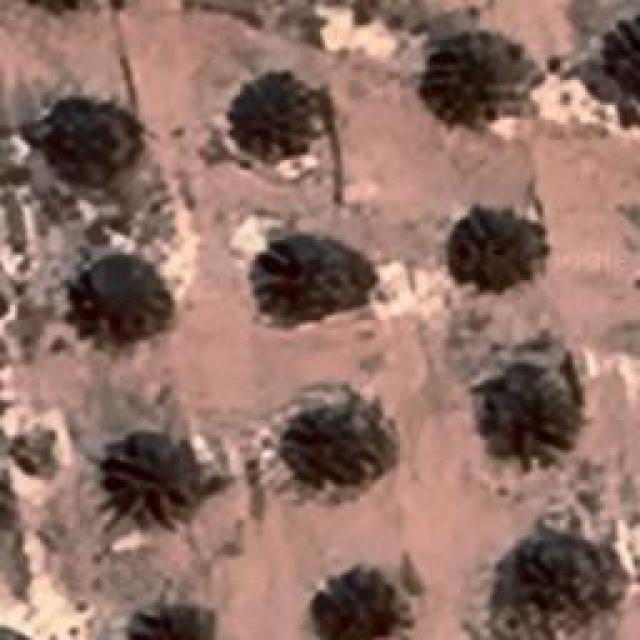PalmTree: (90, 415, 212, 535), (246, 232, 366, 326), (504, 528, 598, 626), (474, 358, 578, 446), (421, 36, 524, 122), (72, 256, 172, 344), (285, 402, 370, 486), (242, 81, 326, 159), (37, 100, 125, 170), (314, 567, 394, 640), (444, 216, 528, 282), (125, 592, 225, 638), (607, 16, 640, 93)
